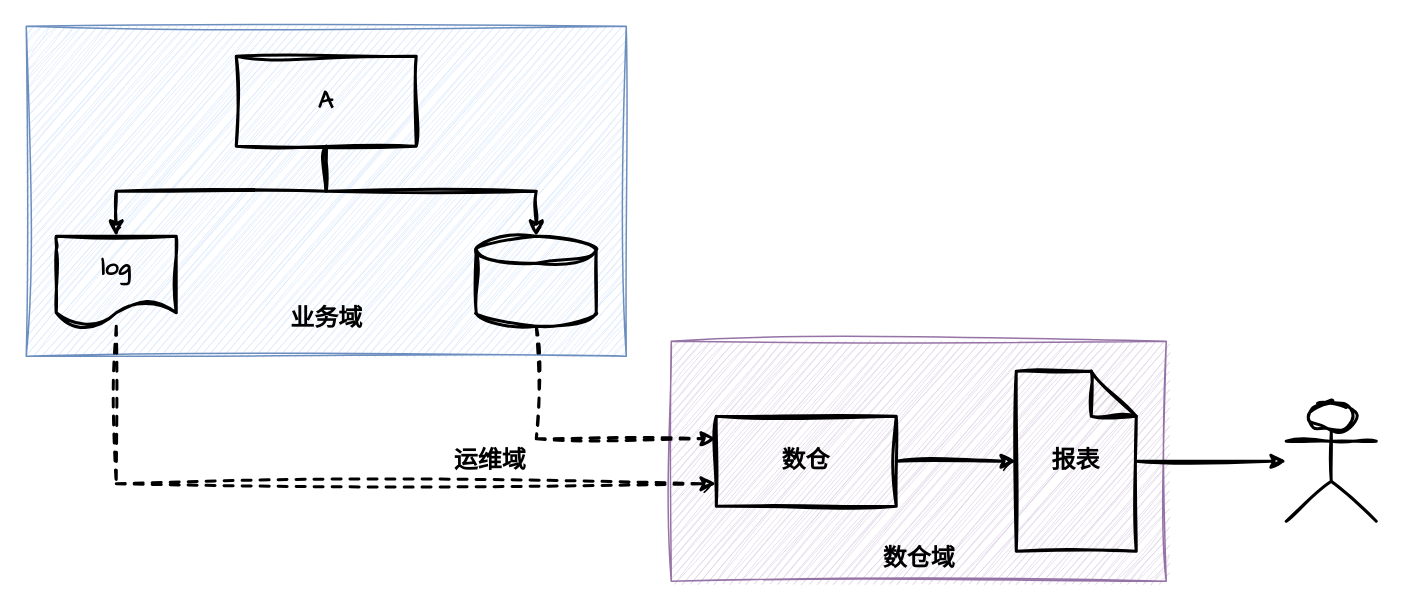
The diagram is 1404 pixels wide and 608 high, and some of its shapes have lost their labels. The box of each missing label's shape, as (x1, y1, x2, y2) in pixels:
DB: (474, 234, 597, 327)
老板: (1284, 399, 1377, 522)
